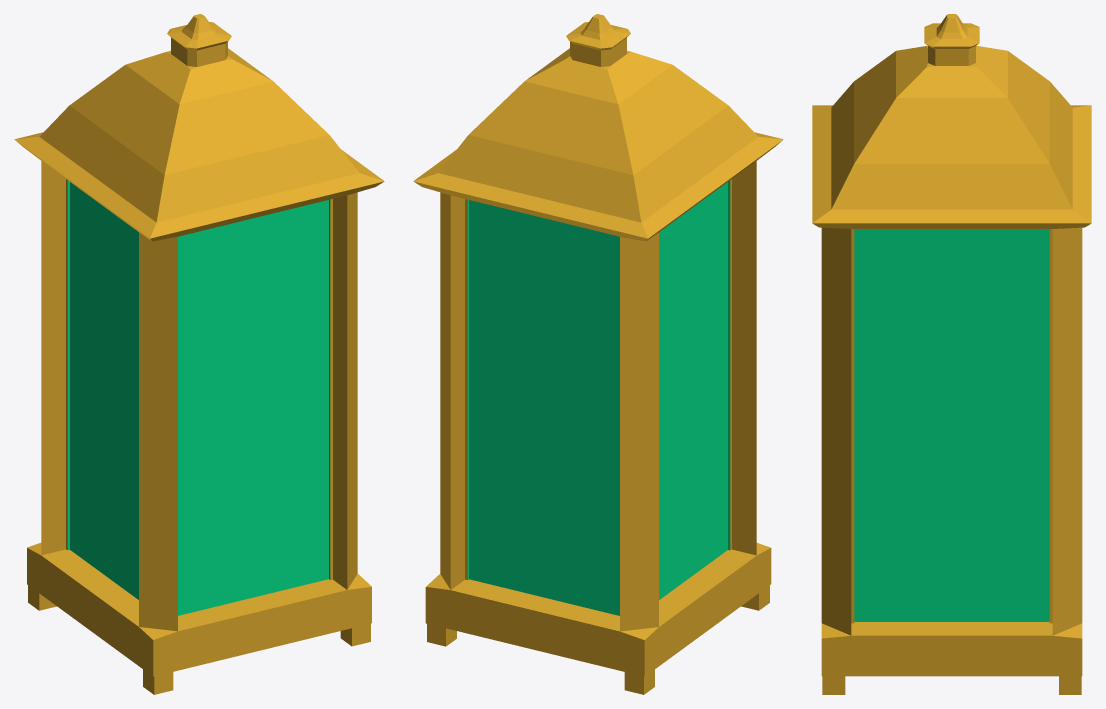
The model's file is Lampa.fbx.
3 views of the same model, side by side, from view 1: azimuth 30°, elevation 25°; view 2: azimuth 150°, elevation 25°; view 3: azimuth 270°, elevation 25° (orthographic). The views are drawn at different scales.
Parts seen in each view (by area): view 1: Cube; view 2: Cube; view 3: Cube.
Part boxes in pixels (left/top/right/bottom): Cube: left=14, top=14, right=384, bottom=694; Cube: left=413, top=14, right=783, bottom=694; Cube: left=812, top=14, right=1091, bottom=694.
Size of the model in its own units: 215 by 529 by 215.
